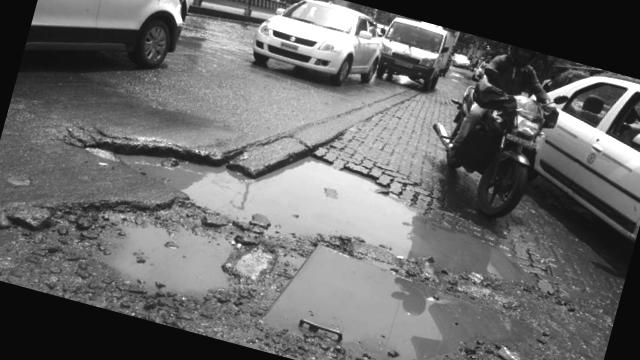Pothole: (58, 82, 556, 298), (0, 142, 277, 345), (248, 229, 555, 360)
